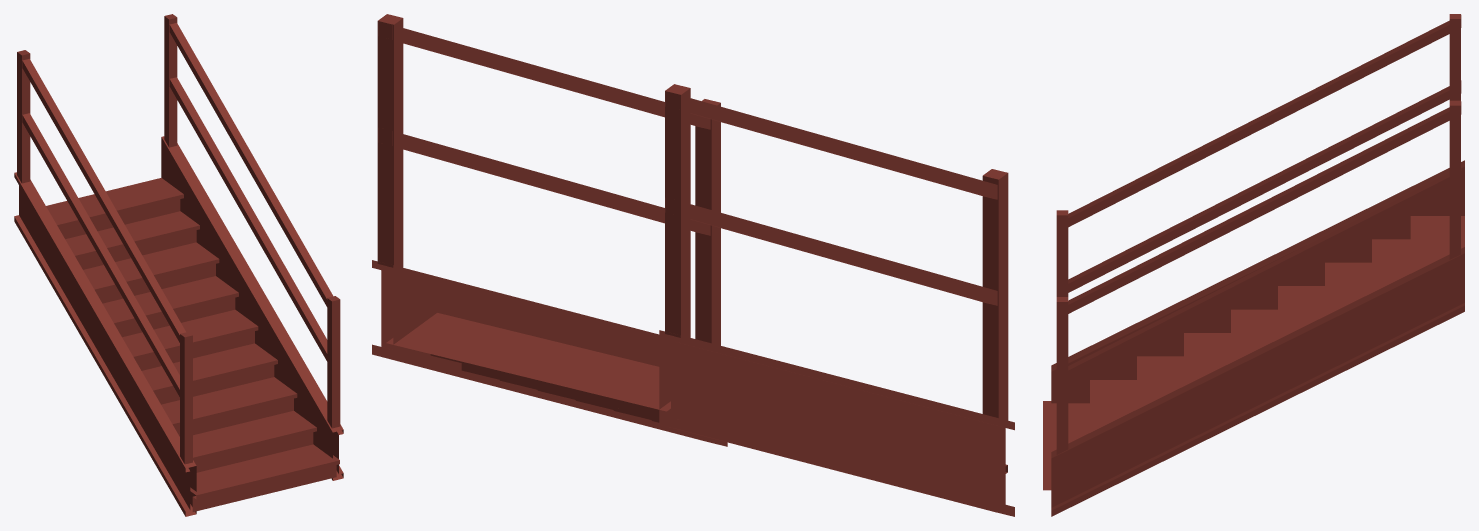
The model's file is Industrial catwalk stairs 2.fbx.
3 views of the same model, side by side, from view 1: azimuth 30°, elevation 25°; view 2: azimuth 150°, elevation 25°; view 3: azimuth 270°, elevation 25° (orthographic). The views are drawn at different scales.
Parts seen in each view (by area): view 1: polySurface158; view 2: polySurface158; view 3: polySurface158.
Boxes of the visible parts, x1,y1,x2,y2 form: polySurface158: (14, 14, 343, 516); polySurface158: (372, 14, 1014, 516); polySurface158: (1043, 14, 1464, 516).
Size of the model in its own units: 129 by 265 by 247.
